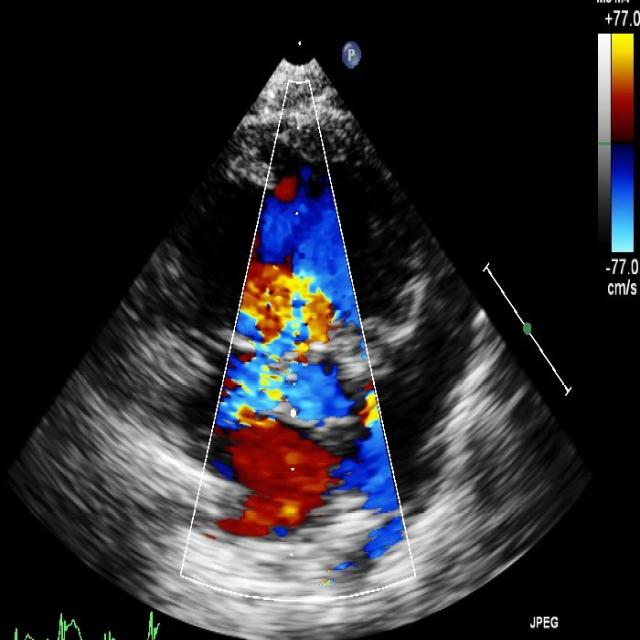VSDType2: (244, 279, 358, 416)
